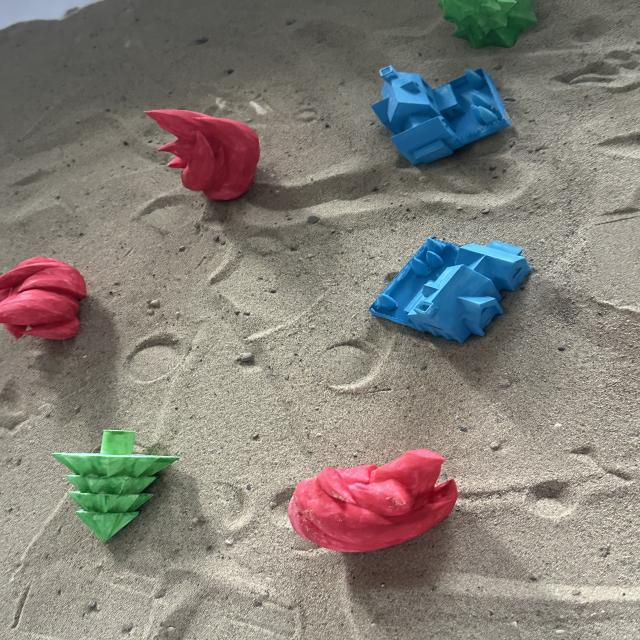fire: (286, 447, 459, 553), (142, 106, 261, 202), (0, 255, 88, 341)
house: (368, 235, 532, 344), (369, 63, 512, 166)
tree: (49, 428, 180, 544)
